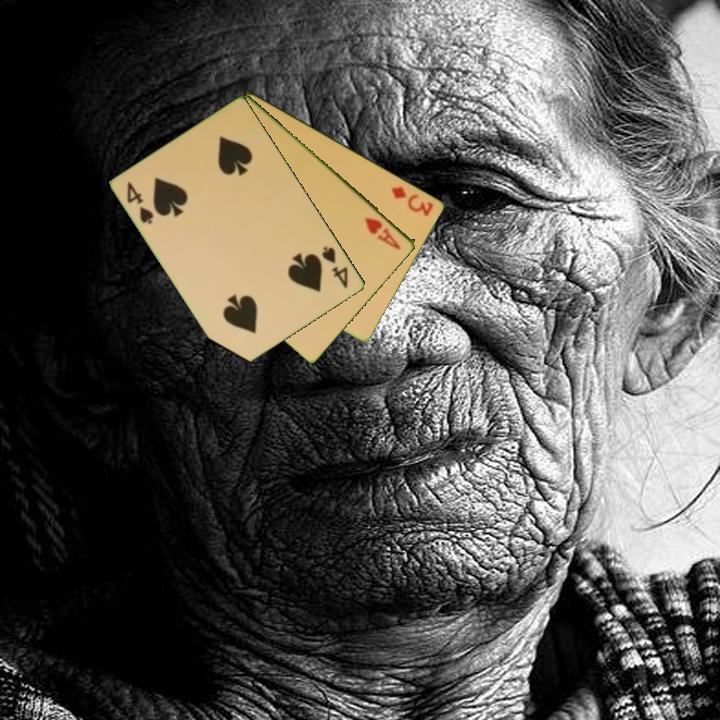3d: (388, 183, 437, 219)
4s: (124, 178, 157, 228), (319, 242, 351, 292)
Ah: (361, 213, 404, 253)
